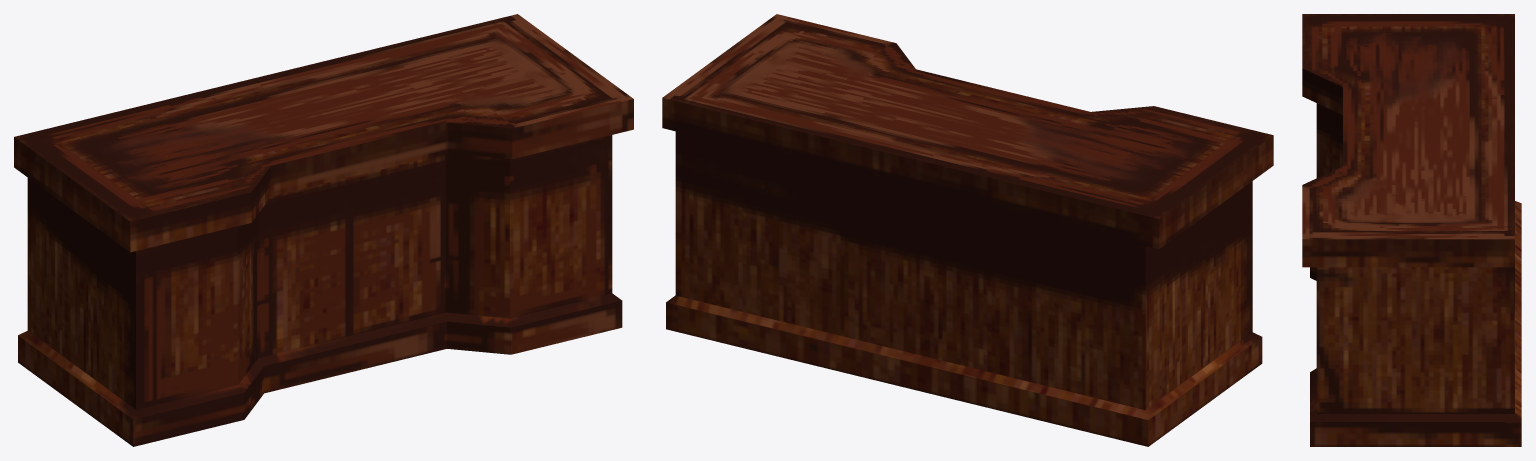
File: chapelaltar2.glb
The picture shows the model from 3 angles, left to right: view 1: azimuth 30°, elevation 25°; view 2: azimuth 150°, elevation 25°; view 3: azimuth 270°, elevation 25°; orthographic projection. The views are drawn at different scales.
Parts seen in each view (by area): view 1: altarzao_02_geo; view 2: altarzao_02_geo; view 3: altarzao_02_geo.
Boxes of the visible parts, bbox=[...] form: altarzao_02_geo: bbox=[14, 14, 633, 446]; altarzao_02_geo: bbox=[662, 14, 1273, 446]; altarzao_02_geo: bbox=[1302, 14, 1521, 446].
Size of the model in its own units: 3.13 by 1.37 by 1.29.
Materials: 1 (1 with a texture image).
